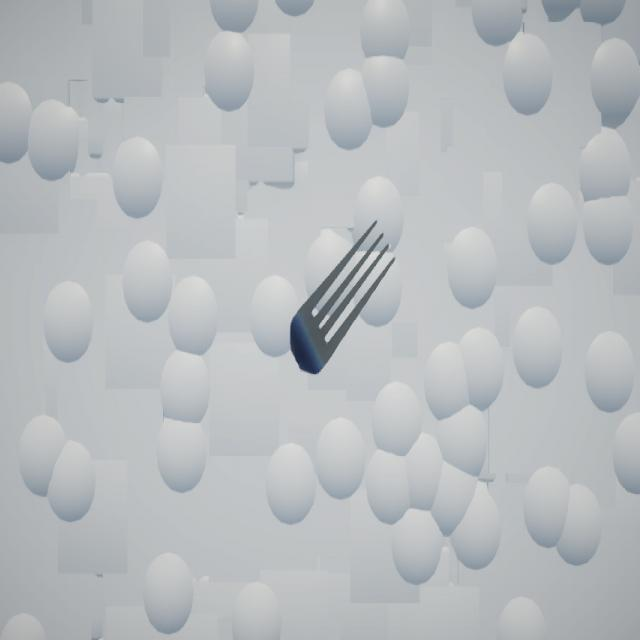top_folk: (291, 221, 397, 376)
